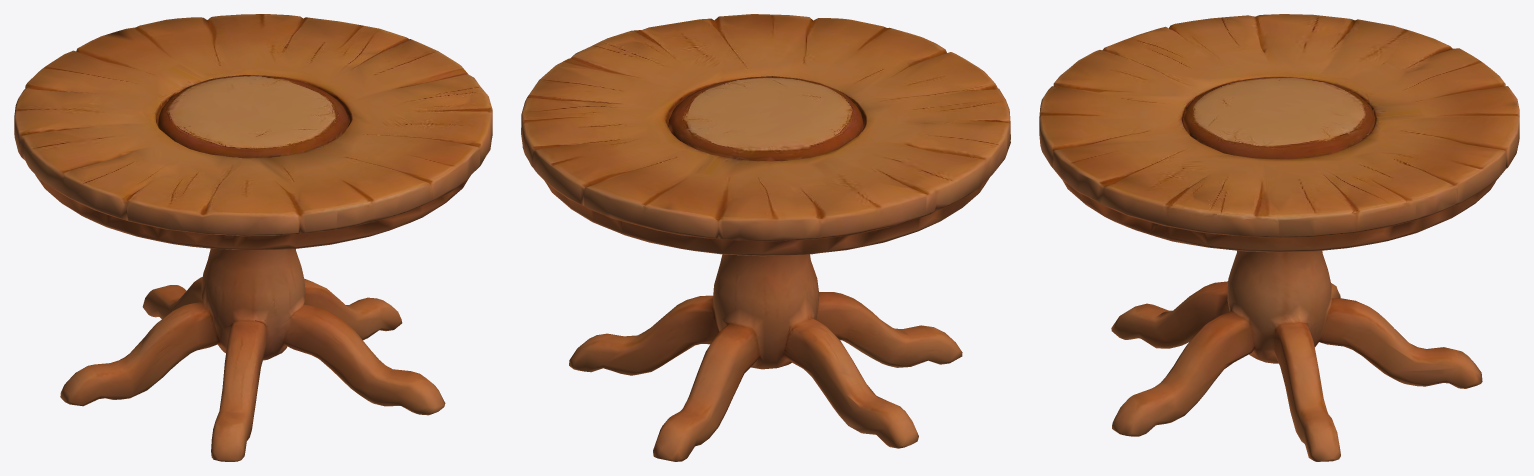
File: tisch_wald_a.glb
3 views of the same model, side by side, from view 1: azimuth 30°, elevation 25°; view 2: azimuth 150°, elevation 25°; view 3: azimuth 270°, elevation 25° (orthographic). The views are drawn at different scales.
Parts seen in each view (by area): view 1: tripo_node_01deefd5-17f4-4498-8dc5-7d706cb94668; view 2: tripo_node_01deefd5-17f4-4498-8dc5-7d706cb94668; view 3: tripo_node_01deefd5-17f4-4498-8dc5-7d706cb94668.
Boxes of the visible parts, x1,y1,x2,y2 form: tripo_node_01deefd5-17f4-4498-8dc5-7d706cb94668: [14, 14, 492, 461]; tripo_node_01deefd5-17f4-4498-8dc5-7d706cb94668: [521, 14, 1010, 461]; tripo_node_01deefd5-17f4-4498-8dc5-7d706cb94668: [1039, 14, 1519, 461].
Size of the model in its own units: 1.19 by 0.7505 by 1.19.
Materials: 1 (1 with a texture image).
